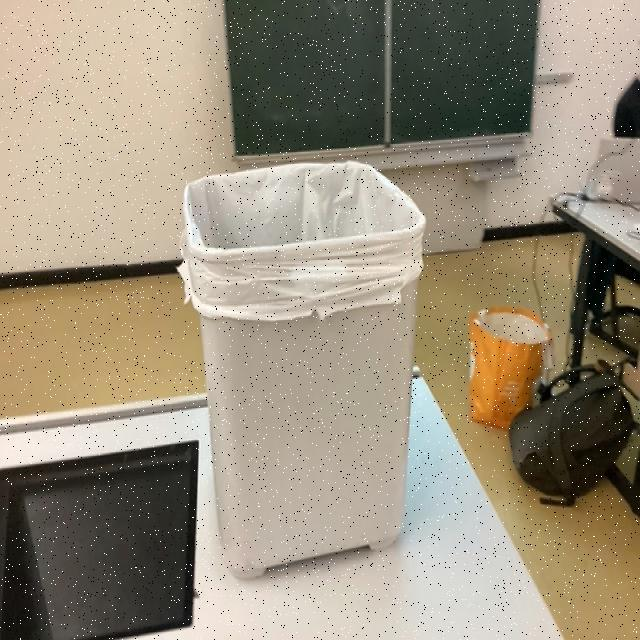garbage container: (143, 90, 456, 589)
